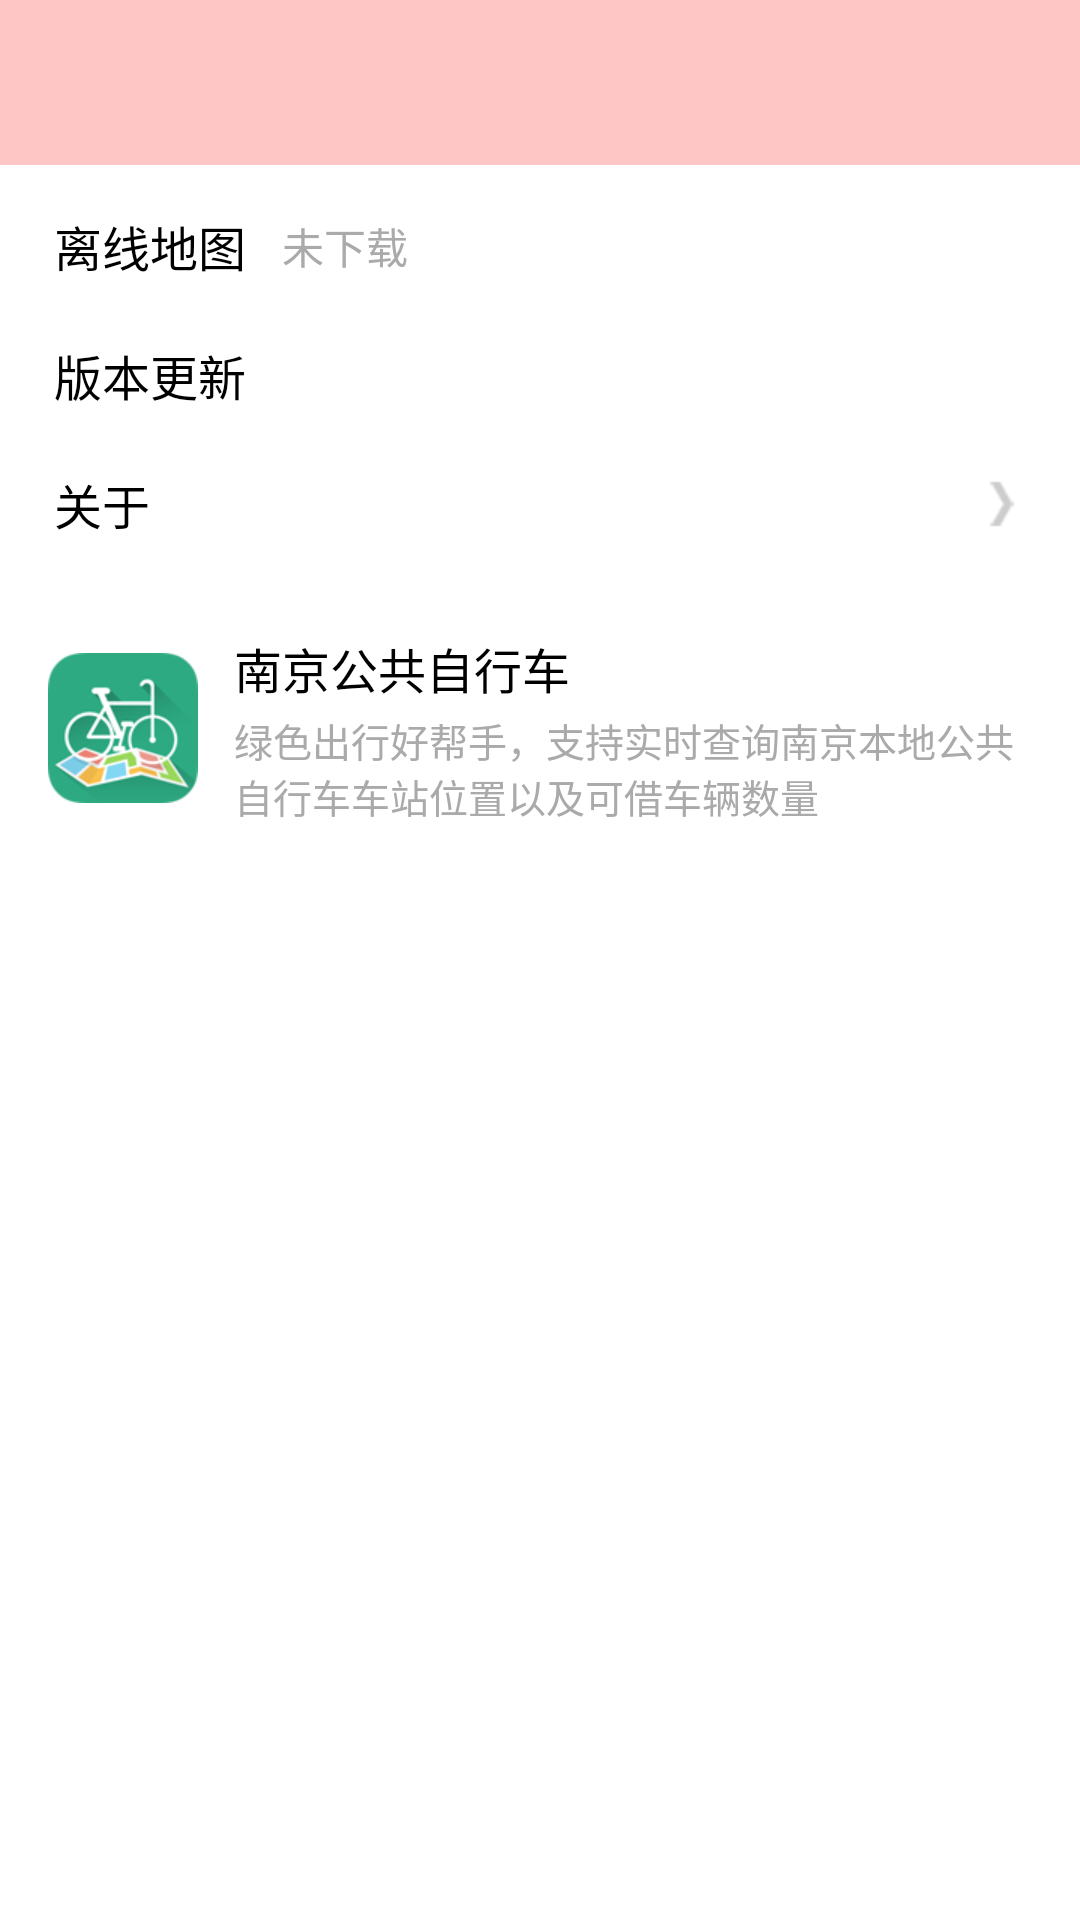

Screen size 1080×1920. Icon name, then its box in pixels as Rect(x1, y1, x2, y2):
adv bike: Rect(48, 653, 198, 803)
mything next: Rect(991, 482, 1013, 526)
